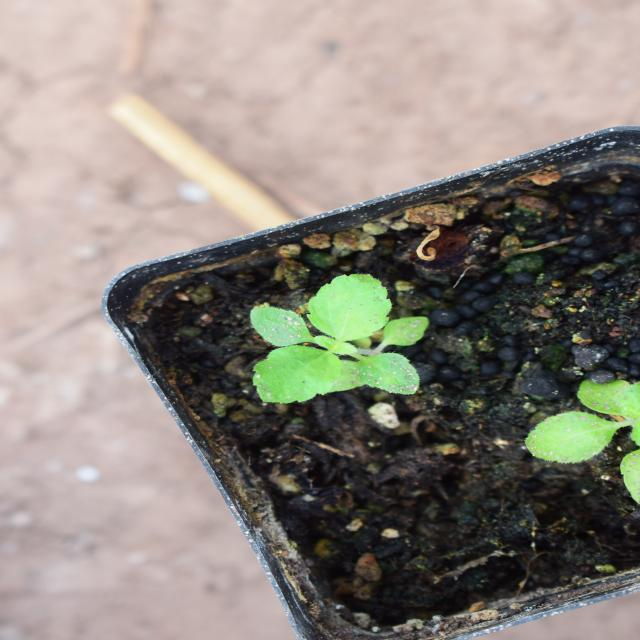billygoat_weed: (221, 232, 363, 454)
